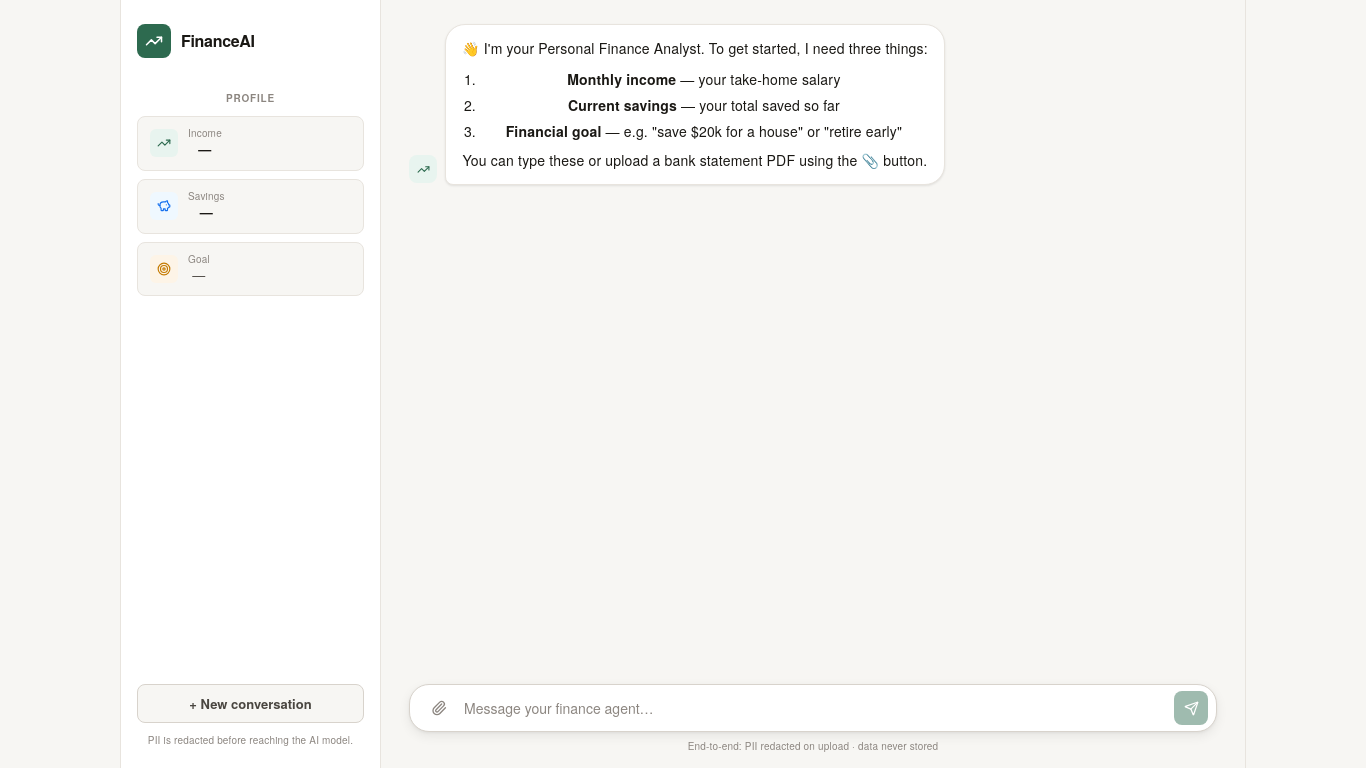
Test case: App — sending a message › displays the bot reply in the chat
The image size is (1366, 768).
Type "hi" into the field with placeholder "Message your finance agent…" at x=815, y=708, box [464,692,1166,724]
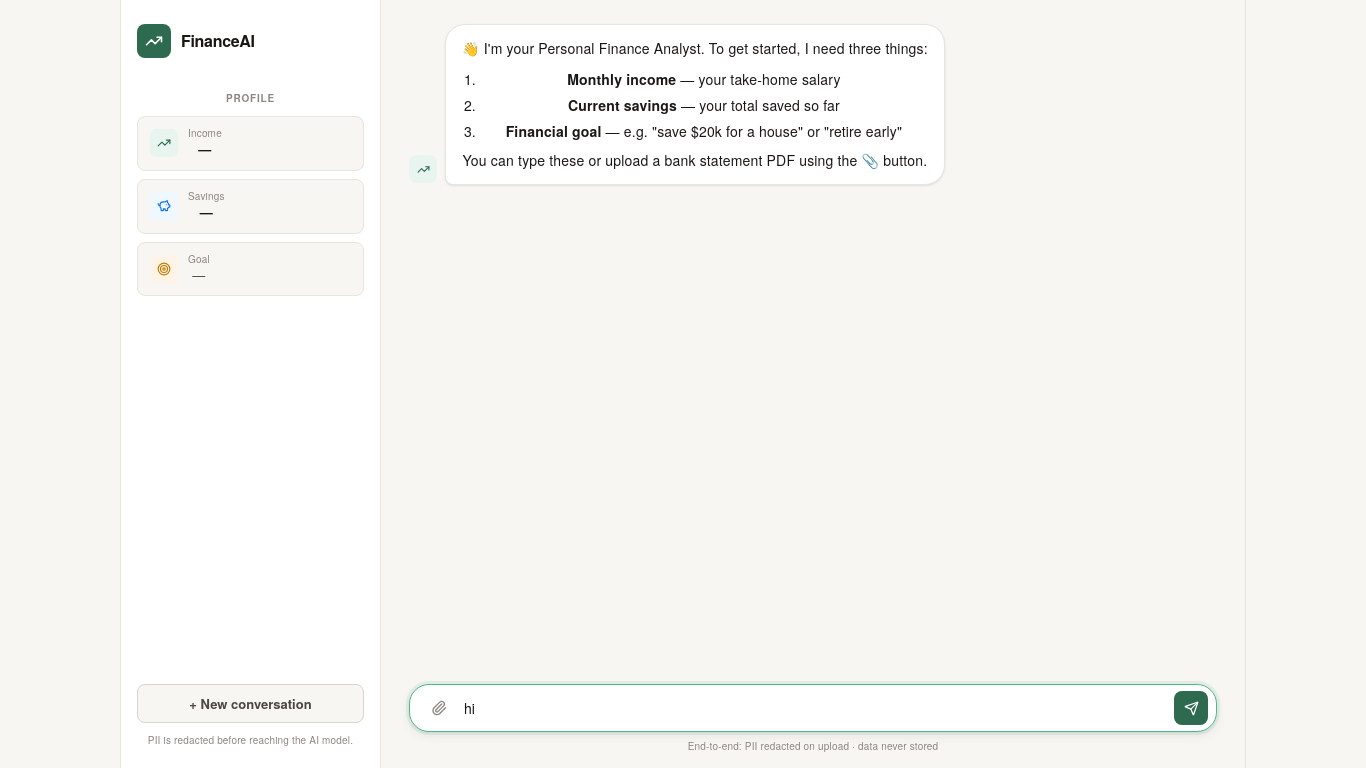
Press Enter in the field with placeholder "Message your finance agent…", box [464,692,1166,724]
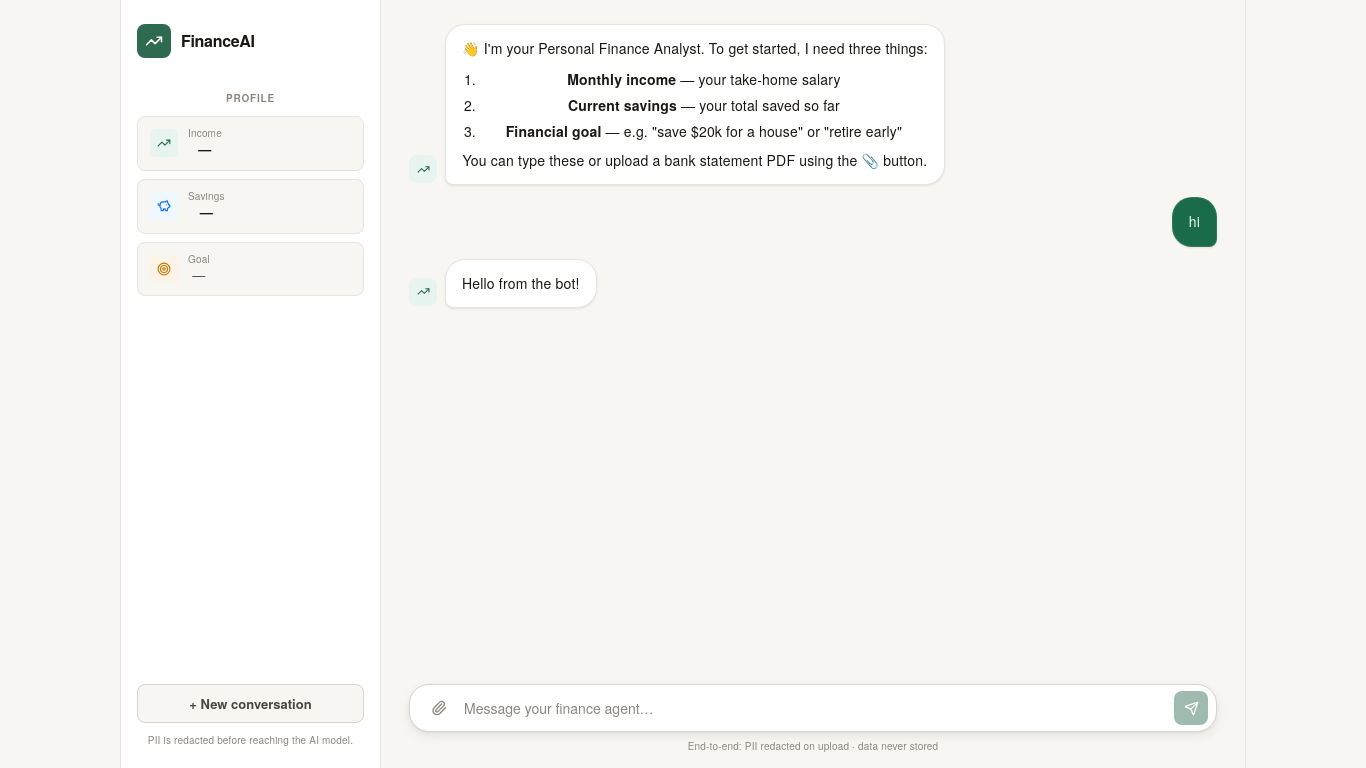
Result: the text "Hello from the bot!" is shown at [462,272,580,295]
